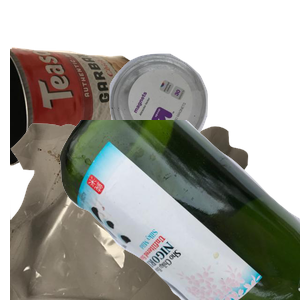glass: (60, 120, 300, 300)
metal: (10, 44, 151, 203)
plastic: (107, 51, 300, 199)
trash: (10, 120, 250, 300)
